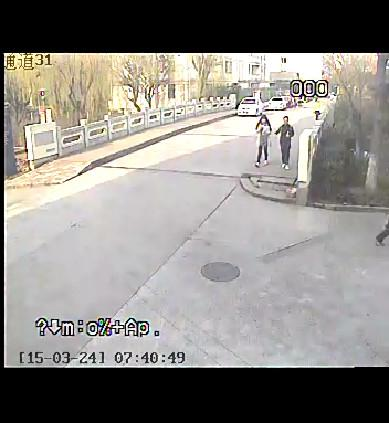person: (273, 114, 296, 168), (253, 114, 274, 167)
